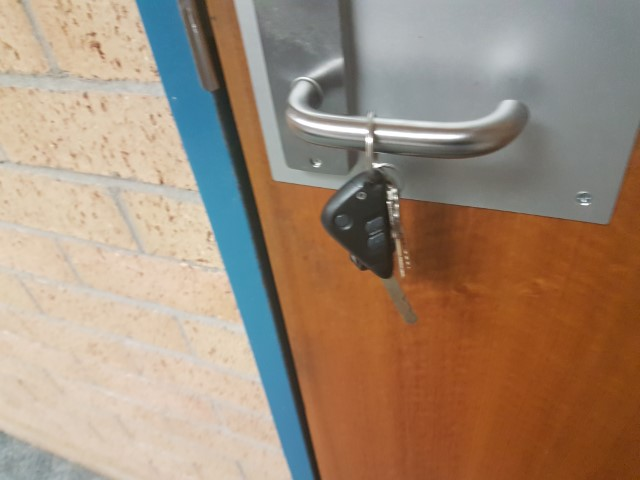key: (320, 170, 418, 326)
